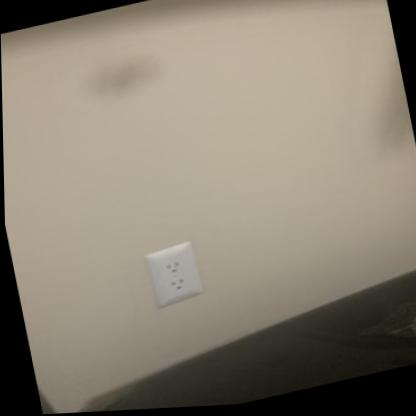OUTLET: (147, 239, 203, 307)
